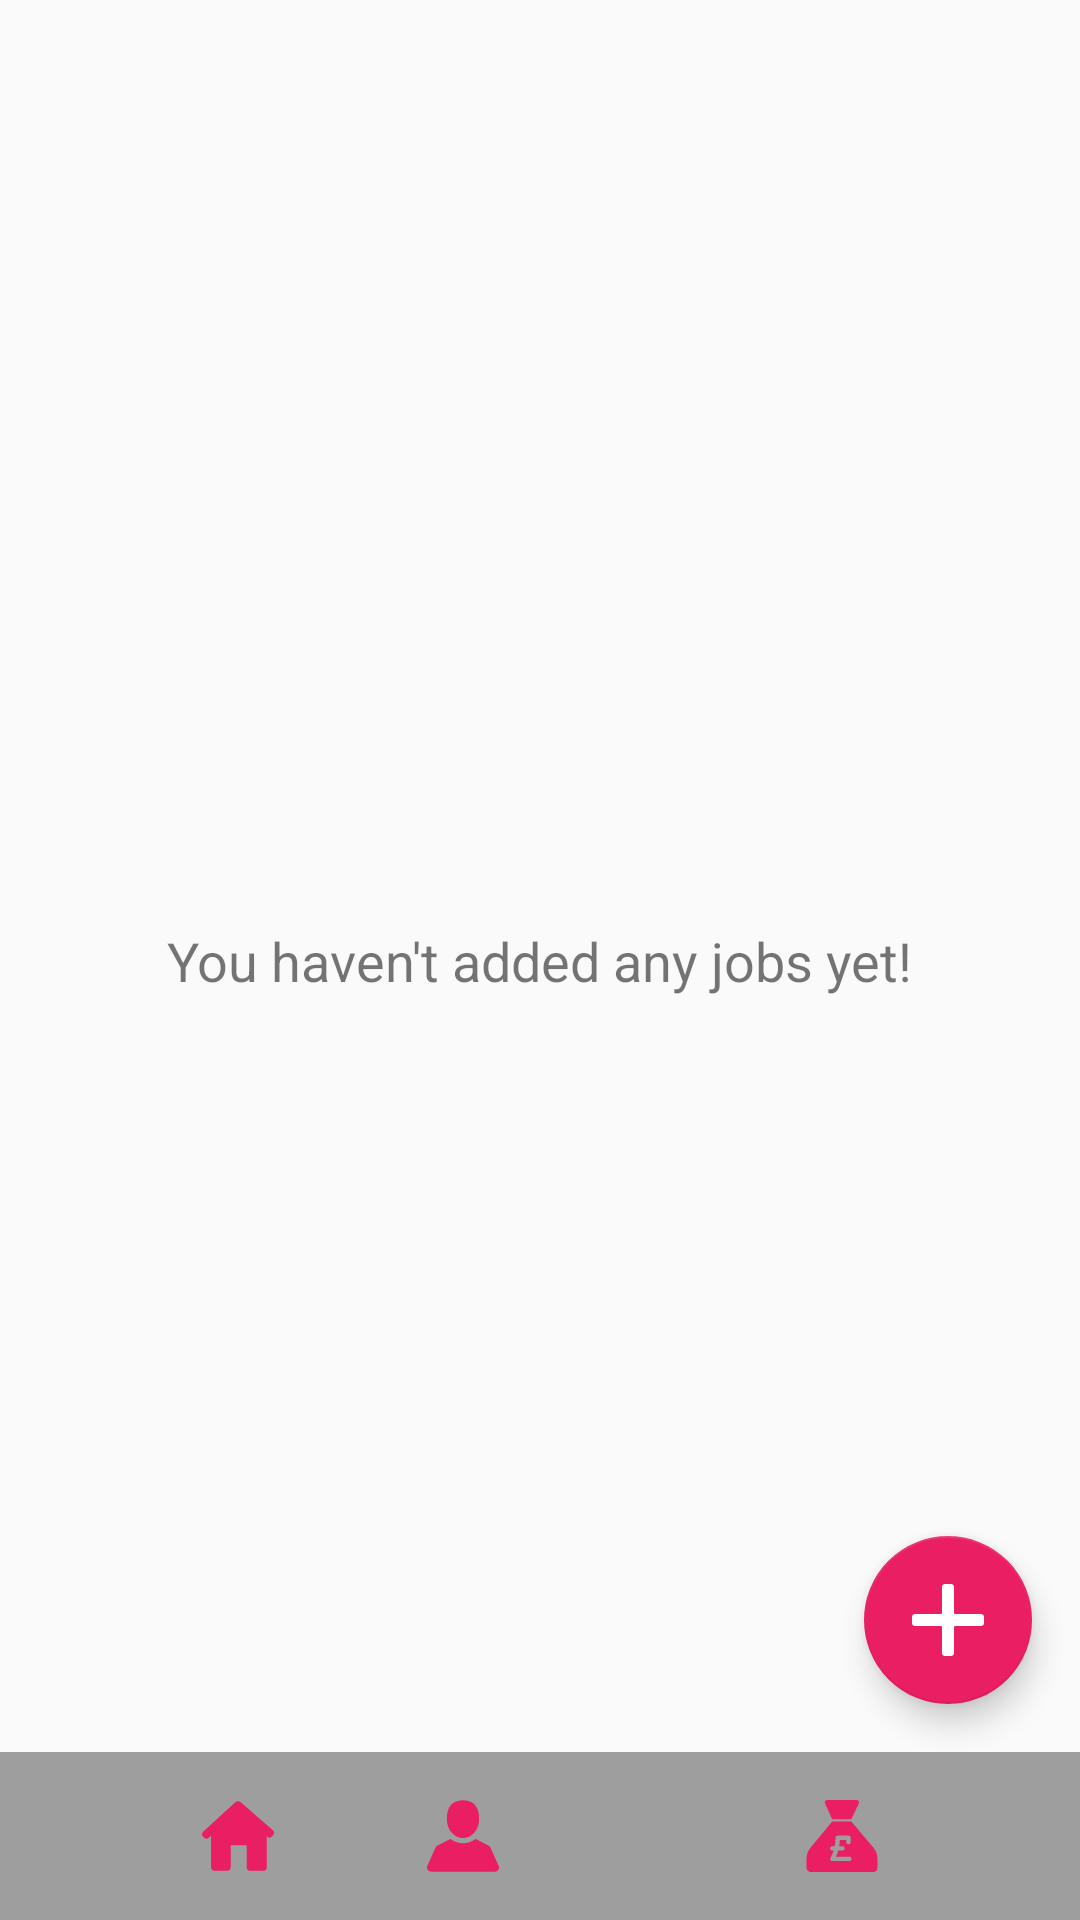

Icons on this 1080 x 1920 Android screen, each with the point to tap as [x,y]:
add: [948,1620]
home: [238,1836]
money: [842,1836]
person: [463,1836]
